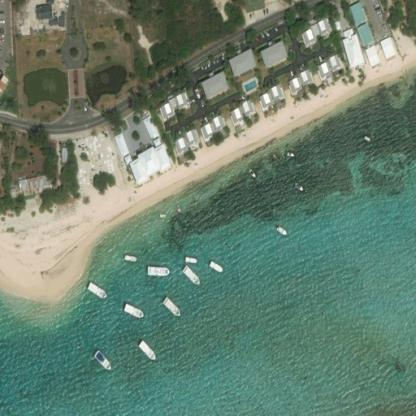ship: (132, 328, 159, 365), (156, 291, 184, 319), (88, 346, 114, 372), (83, 277, 110, 301), (118, 300, 147, 319), (180, 263, 203, 286), (143, 262, 172, 278), (270, 219, 292, 240), (242, 164, 260, 184), (206, 256, 226, 274), (288, 178, 310, 193), (119, 250, 139, 264), (360, 129, 374, 146), (280, 147, 299, 159), (155, 208, 171, 221), (181, 252, 198, 264), (171, 202, 185, 214)
